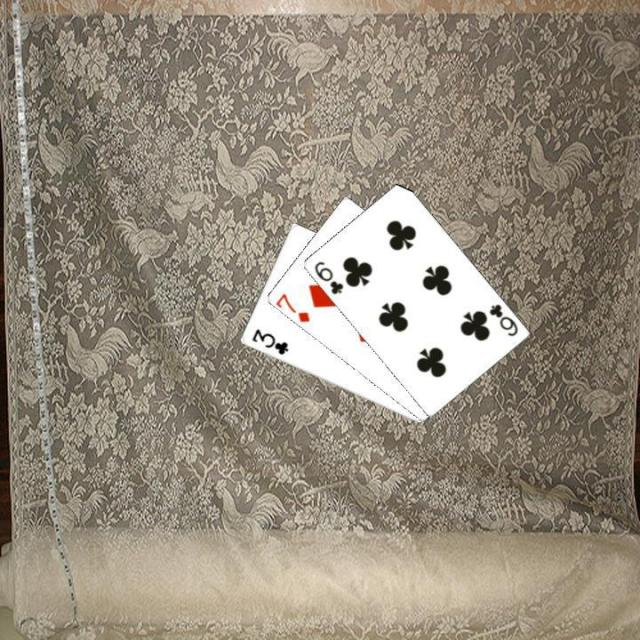3C: (247, 326, 290, 356)
6C: (310, 257, 345, 296), (485, 300, 519, 338)
7D: (272, 289, 311, 324)
